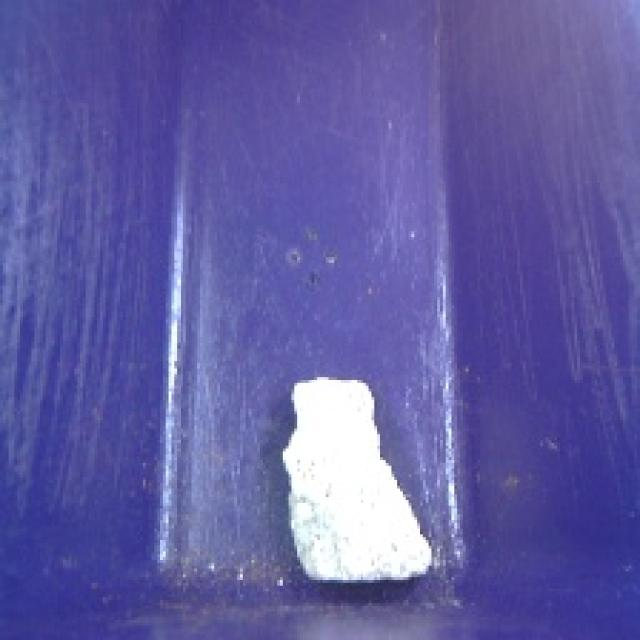brick: (264, 368, 446, 593)
